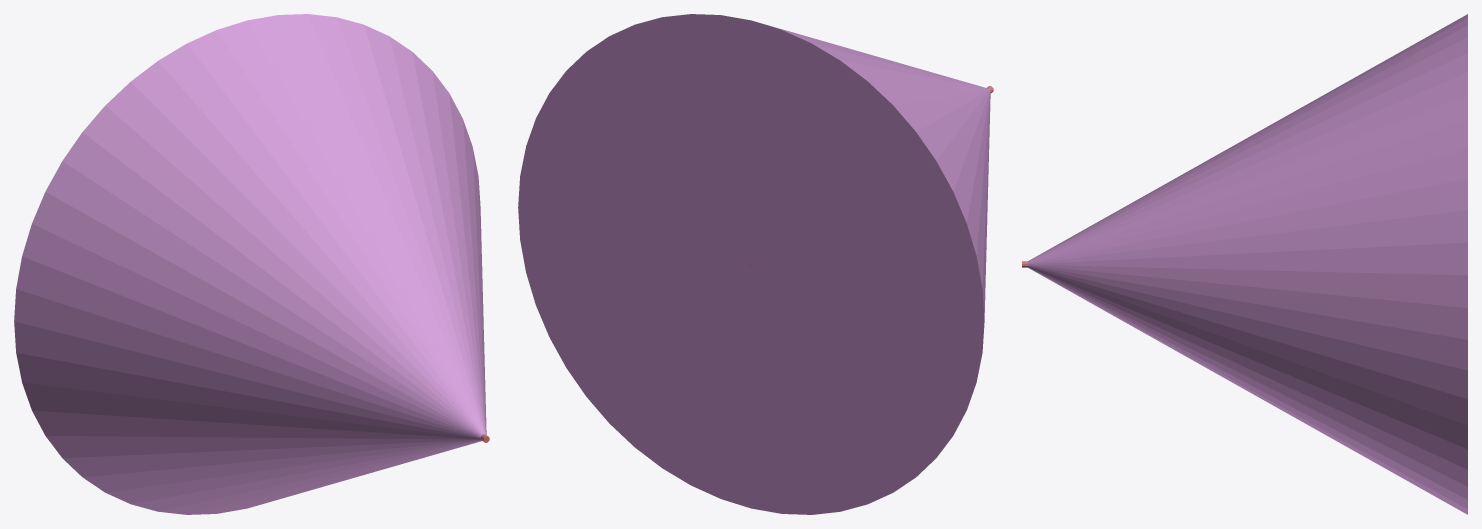
Rendered from non.glb.
3 views of the same model, side by side, from view 1: azimuth 30°, elevation 25°; view 2: azimuth 150°, elevation 25°; view 3: azimuth 270°, elevation 25° (orthographic). The views are drawn at different scales.
Parts seen in each view (by area): view 1: world; view 2: world; view 3: world.
Part boxes in pixels (x1,y1,x2,y2): world: (14, 14, 489, 514); world: (518, 14, 993, 514); world: (1022, 14, 1467, 514).
Size of the model in its own units: 0.9 by 0.9 by 0.8.
